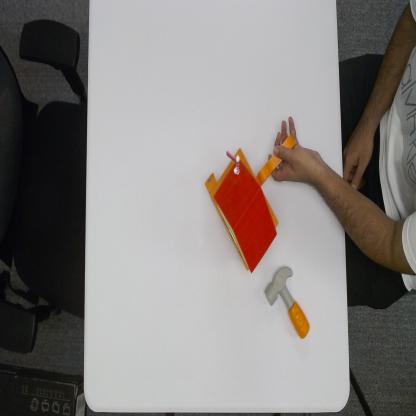Arm: (327, 163, 416, 282)
Hammer: (264, 265, 310, 340)
Hand: (266, 114, 328, 184)
House: (204, 145, 280, 275)
Screwdriver: (256, 134, 297, 187)
